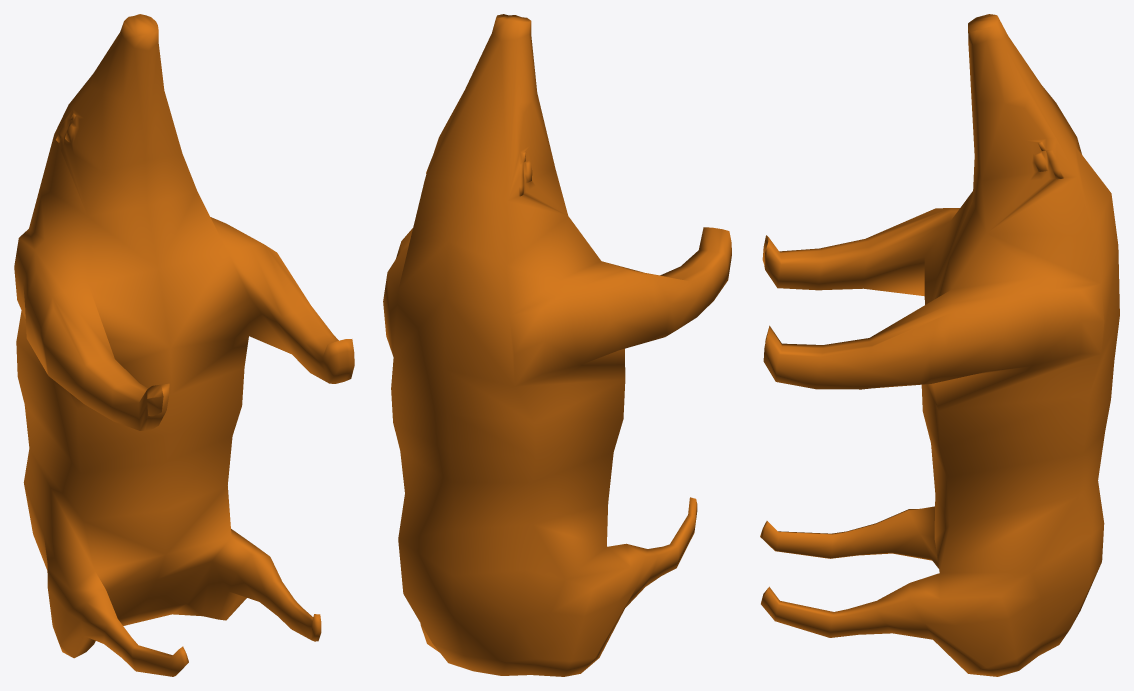
File: Boar3.fbx
3 renders of one model, left to right at view 1: azimuth 30°, elevation 25°; view 2: azimuth 150°, elevation 25°; view 3: azimuth 270°, elevation 25°, orthographic. The views are drawn at different scales.
Visible parts, largest first — view 1: Cube; view 2: Cube; view 3: Cube.
Boxes of the visible parts, <box> form: Cube: <box>14,14,354,676</box>; Cube: <box>383,14,731,676</box>; Cube: <box>760,14,1119,676</box>.
Size of the model in its own units: 706 by 1348 by 572.
